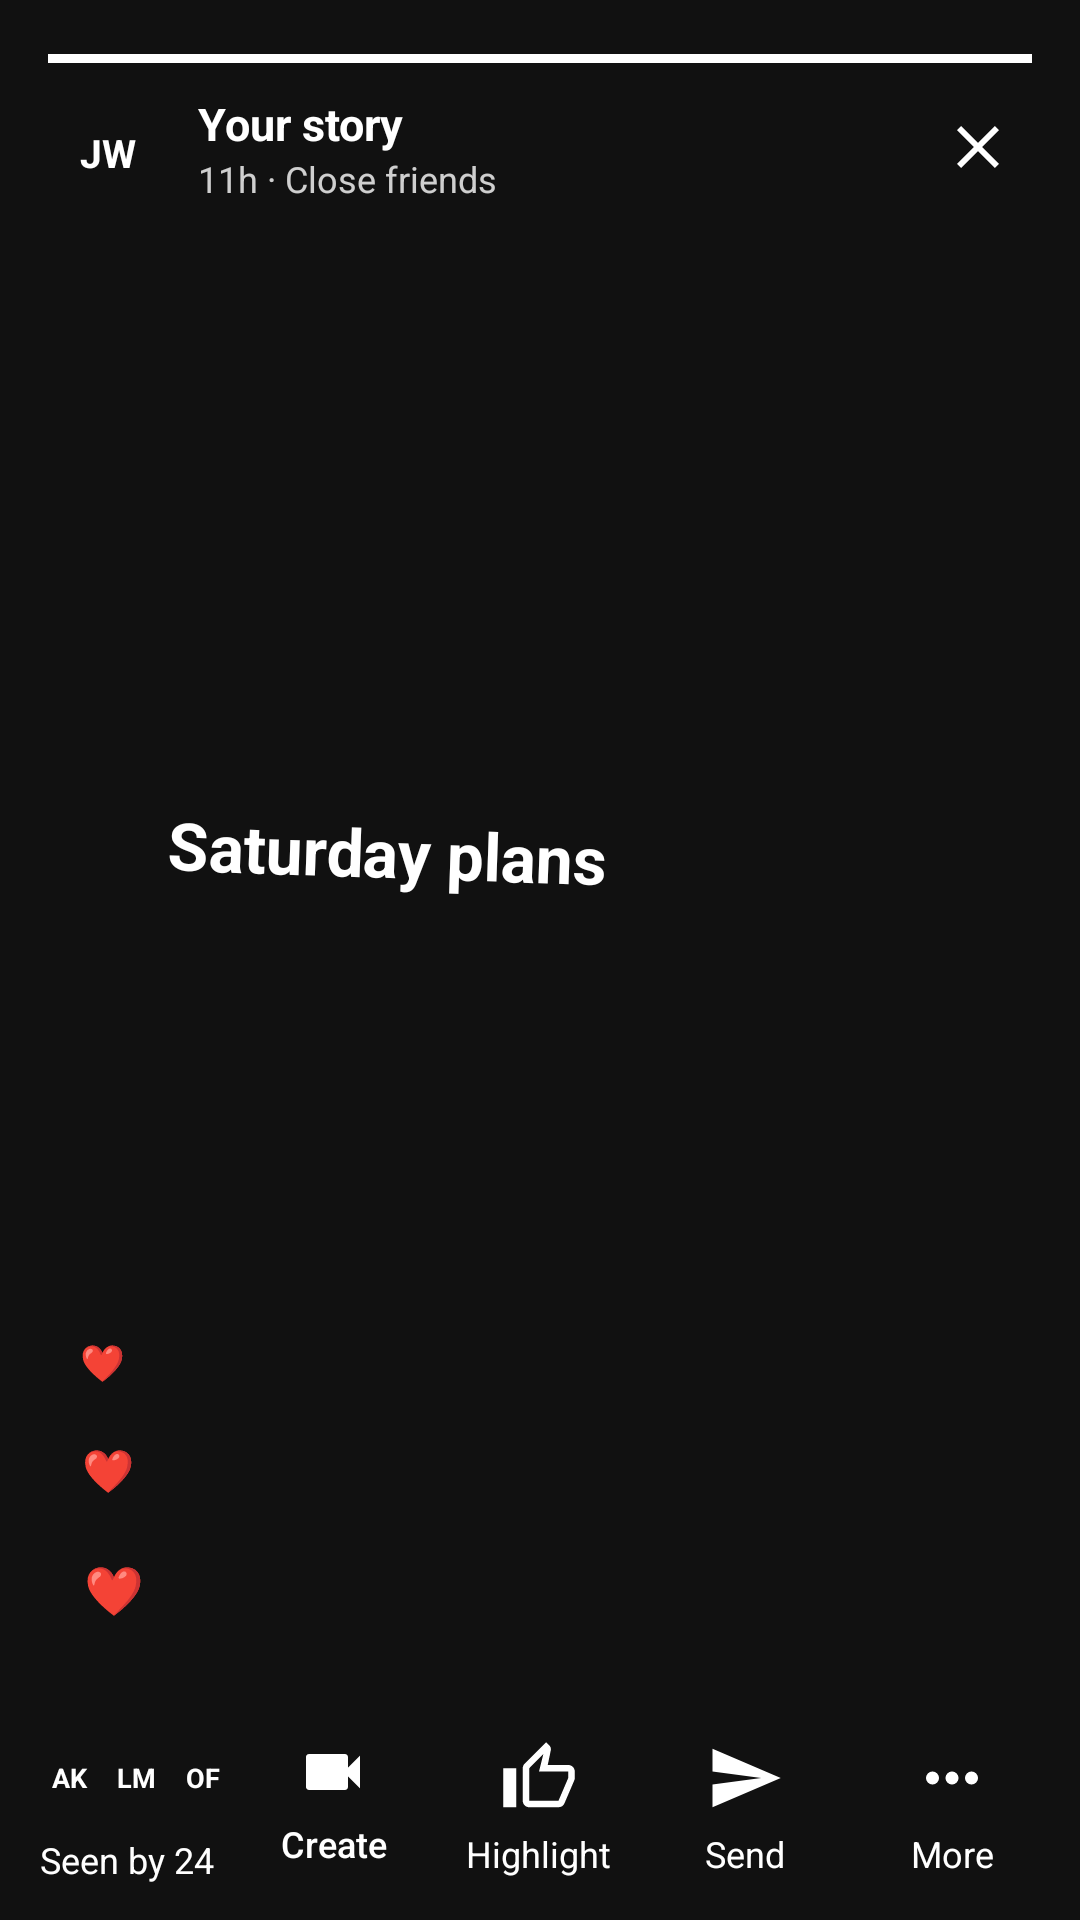

Icon bounding boxes for this 1080 × 1920 phone screenshot, format (x1, y1, x2, y2):
close: (957, 126, 999, 168)
thumb up: (503, 1742, 575, 1808)
